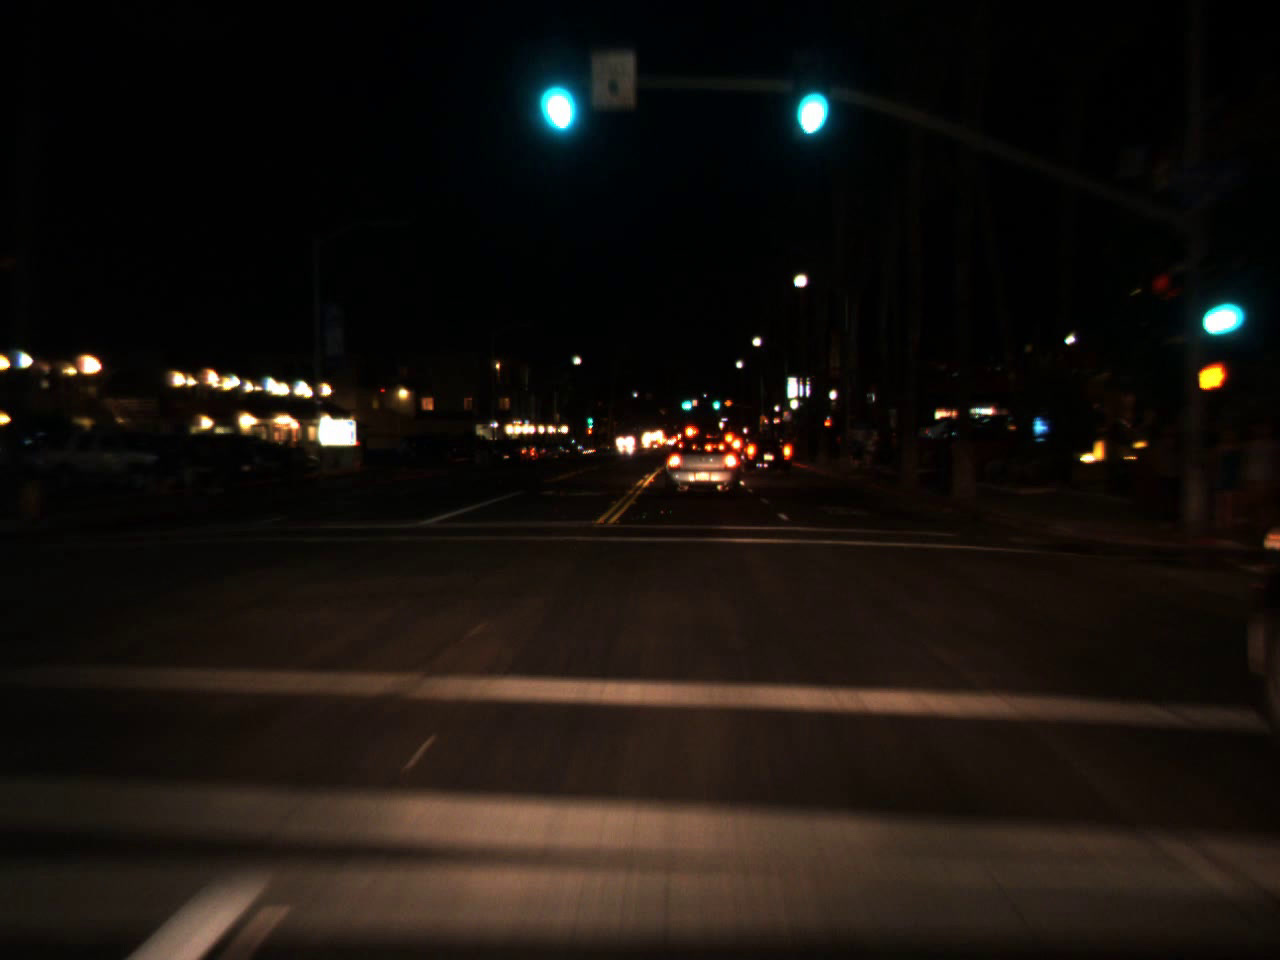go: (1190, 269, 1242, 347), (787, 62, 830, 146), (537, 51, 576, 138), (677, 393, 693, 411), (711, 393, 721, 411), (586, 411, 593, 426)
